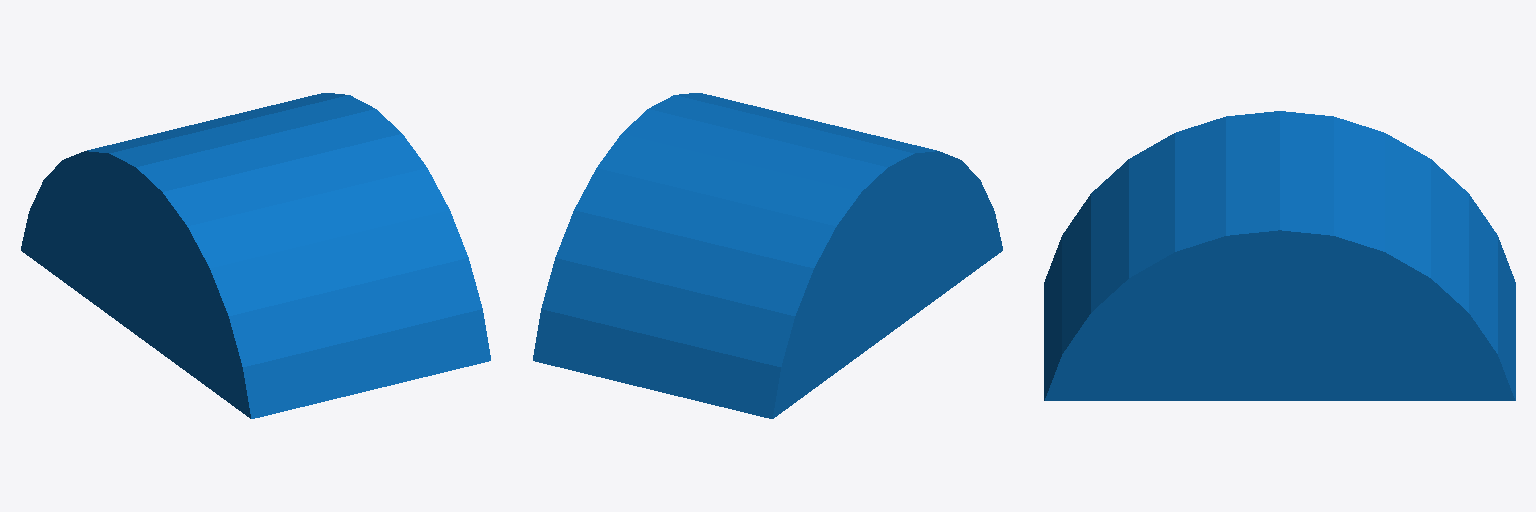
robot.urdf — circular_segment:
<?xml version="0.0" ?>
<!--TODO check inertia-->
<robot name="circular_segment">
  <link name="baseLink">
    <contact>
      <lateral_friction value="1.0"/>
      <rolling_friction value="0.0"/>
      <contact_cfm value="0.0"/>
      <contact_erp value="1.0"/>
    </contact>  
    <inertial>
      <mass value="0.014"/>
      <origin rpy="0 0 0" xyz="0 0 0"/>
      <inertia ixx="1.0e-6" ixy="0" ixz="0" iyy="1.0e-6" iyz="0" izz="1.0e-6"/>
    </inertial>
    <visual>
      <origin rpy="0 0 0" xyz="0 0 0"/>
      <geometry>
        <mesh filename="meshes/circular_segment.obj"/>
      </geometry>
      <material name="white">
        <color rgba="0.1 0.5 0.8 1"/>
      </material>
    </visual>
    <collision>
      <origin rpy="0 0 0" xyz="0 0 0"/>
      <geometry>
        <mesh filename="meshes/circular_segment.obj"/>
      </geometry>
    </collision>
  </link>
</robot>

--- What the picture shows (computed from the rendered views, not written in the file) ---
The picture shows the robot from 3 angles, left to right: view 1: azimuth 30°, elevation 25°; view 2: azimuth 150°, elevation 25°; view 3: azimuth 270°, elevation 25°; orthographic projection.
Robot: circular_segment — 1 links, 0 joints (none); root link baseLink; default pose: every joint at zero.
Visible links, largest first — view 1: baseLink; view 2: baseLink; view 3: baseLink.
Link boxes in pixels (x1,y1,x2,y2): baseLink: (21, 93, 490, 418); baseLink: (533, 93, 1002, 418); baseLink: (1044, 111, 1515, 400).
Bounding box of the posed robot: 0.03 × 0.05 × 0.02 m (x, y, z).
1 mesh visuals loaded from 1 distinct referenced files (1 OBJ).